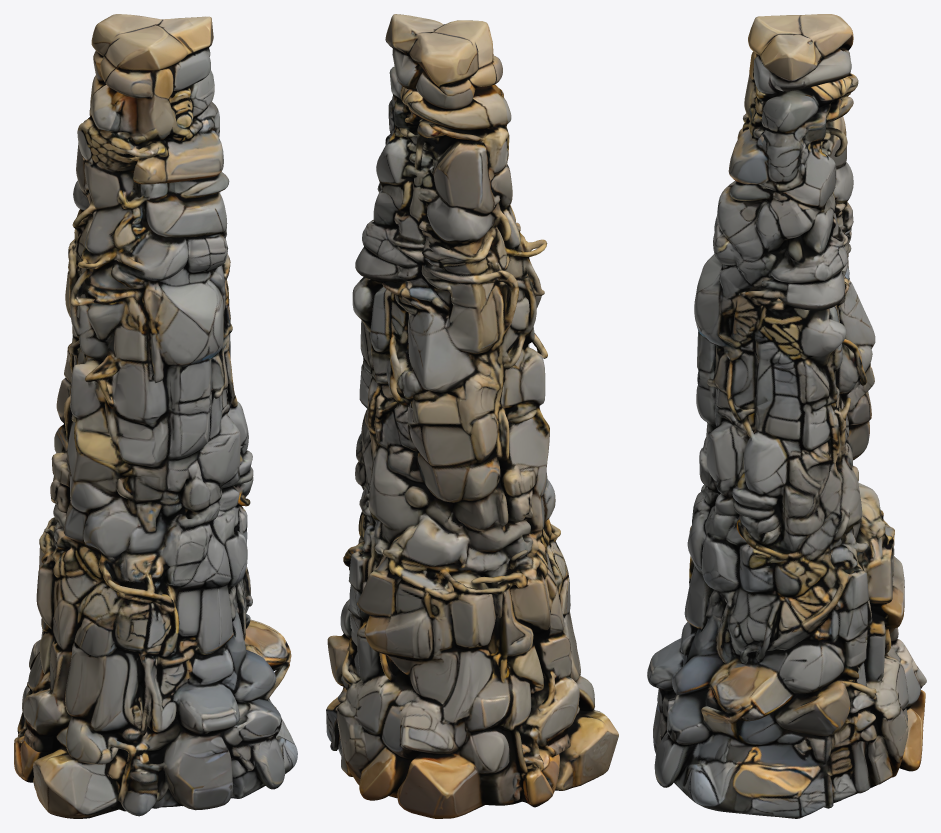
File: nature-rock-pillar.glb
3 views of the same model, side by side, from view 1: azimuth 30°, elevation 25°; view 2: azimuth 150°, elevation 25°; view 3: azimuth 270°, elevation 25° (orthographic).
Visible parts, largest first — view 1: tripo_node_6b4a4926-249a-4acd-b6d5-74935a8b1301; view 2: tripo_node_6b4a4926-249a-4acd-b6d5-74935a8b1301; view 3: tripo_node_6b4a4926-249a-4acd-b6d5-74935a8b1301.
Boxes of the visible parts, bbox=[...] form: tripo_node_6b4a4926-249a-4acd-b6d5-74935a8b1301: bbox=[14, 14, 297, 818]; tripo_node_6b4a4926-249a-4acd-b6d5-74935a8b1301: bbox=[326, 14, 618, 818]; tripo_node_6b4a4926-249a-4acd-b6d5-74935a8b1301: bbox=[647, 14, 926, 818].
Size of the model in its own units: 4.38 by 12 by 4.1.
1 material, 1 textured.
